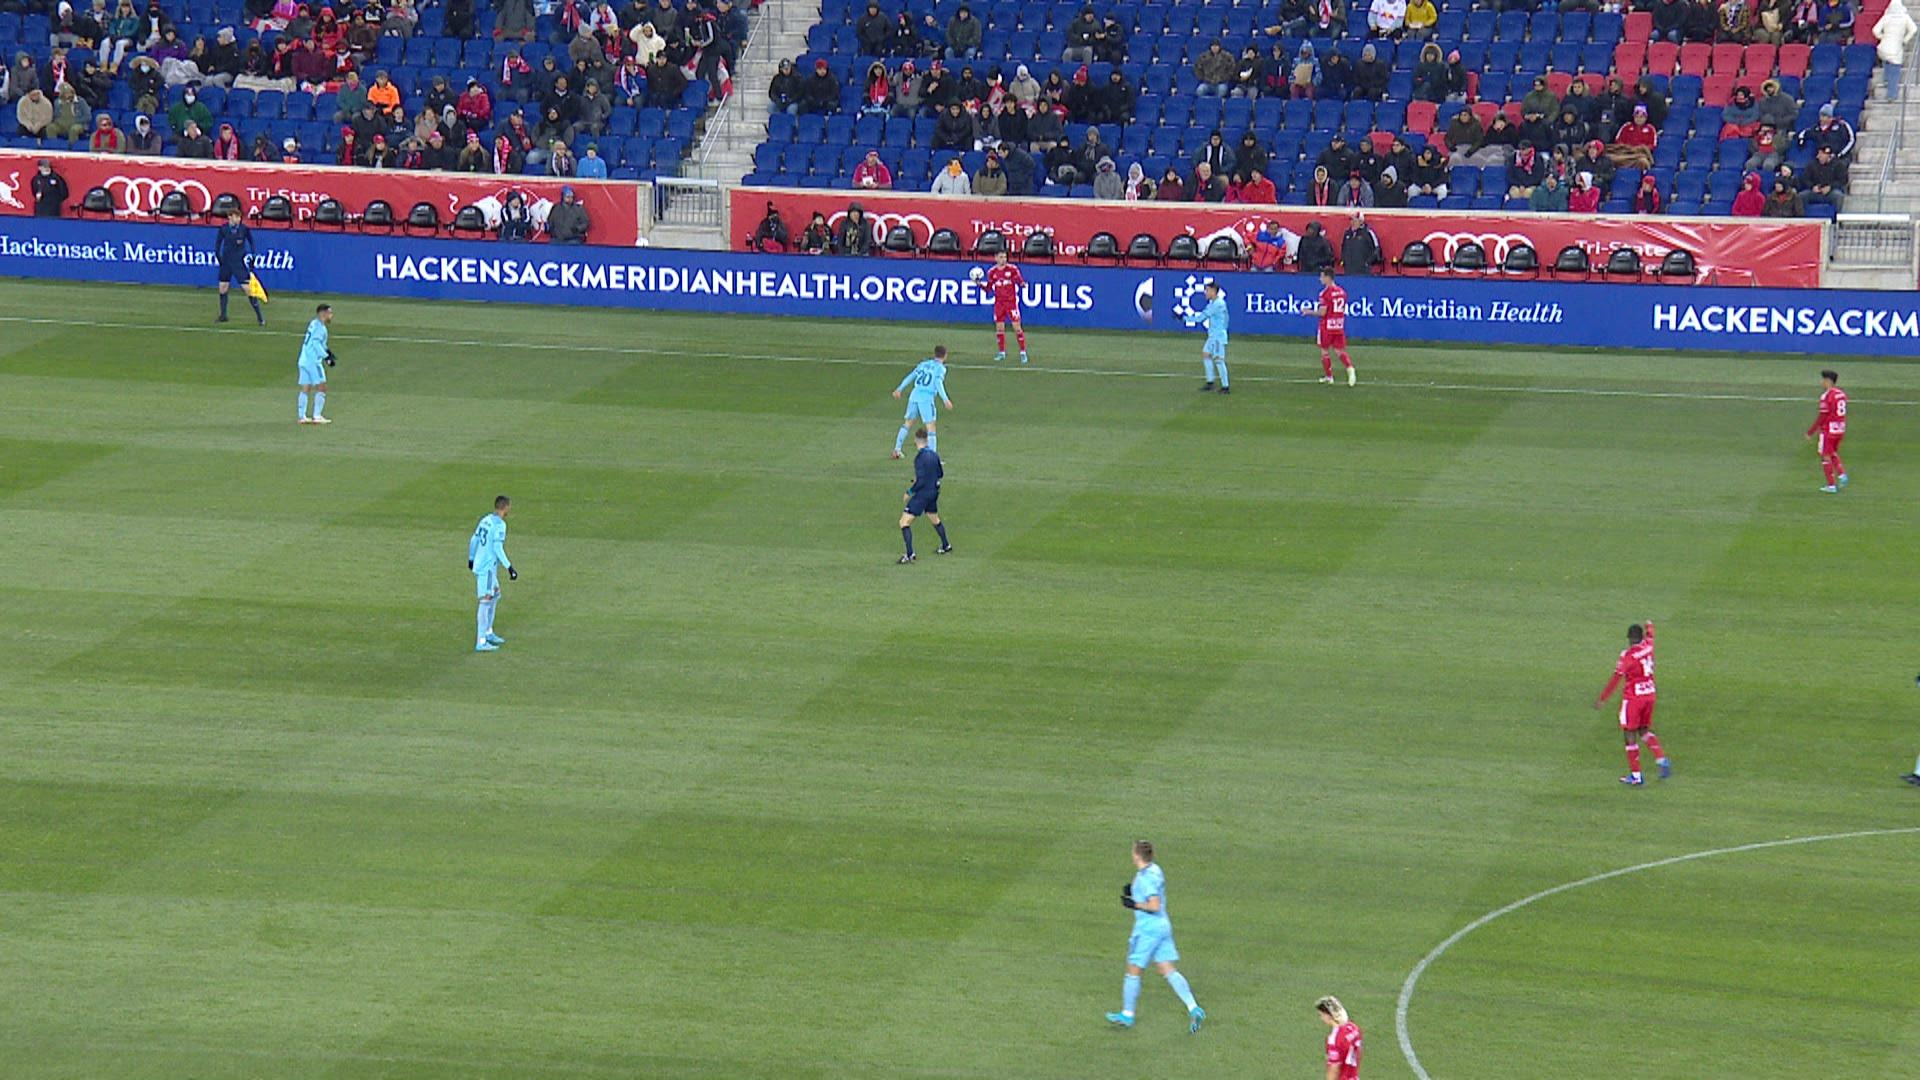football: (968, 265, 985, 280)
